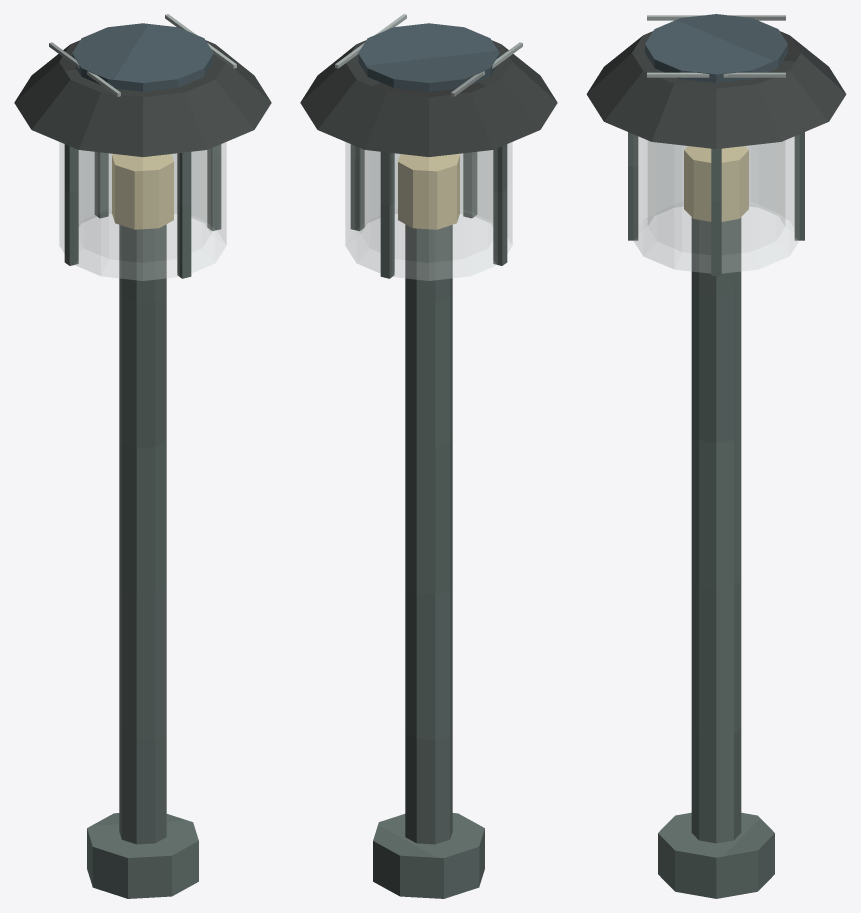
The model's file is solar-lamp.glb.
The picture shows the model from 3 angles, left to right: view 1: azimuth 30°, elevation 25°; view 2: azimuth 150°, elevation 25°; view 3: azimuth 270°, elevation 25°; orthographic projection.
Visible parts, largest first — view 1: solar-lamp/stake, solar-lamp/lamp-glass, solar-lamp/hat, solar-lamp/solar-panel, solar-lamp/foot, solar-lamp/led, solar-lamp/window-frame-3, solar-lamp/window-frame-2, solar-lamp/window-frame-0, solar-lamp/window-frame-1; view 2: solar-lamp/stake, solar-lamp/lamp-glass, solar-lamp/hat, solar-lamp/solar-panel, solar-lamp/foot, solar-lamp/led, solar-lamp/window-frame-1, solar-lamp/window-frame-2, solar-lamp/window-frame-0, solar-lamp/window-frame-3; view 3: solar-lamp/stake, solar-lamp/lamp-glass, solar-lamp/hat, solar-lamp/solar-panel, solar-lamp/foot, solar-lamp/led, solar-lamp/window-frame-0, solar-lamp/window-frame-1, solar-lamp/window-frame-3, solar-lamp/detail-panel-rail-1.
Part boxes in pixels (<box>): solar-lamp/stake: <box>119,224,166,844</box>; solar-lamp/lamp-glass: <box>59,142,226,280</box>; solar-lamp/hat: <box>14,40,271,156</box>; solar-lamp/solar-panel: <box>72,23,213,91</box>; solar-lamp/foot: <box>87,813,198,898</box>; solar-lamp/led: <box>112,154,173,229</box>; solar-lamp/window-frame-3: <box>177,151,191,278</box>; solar-lamp/window-frame-2: <box>64,144,78,265</box>; solar-lamp/window-frame-0: <box>207,144,221,230</box>; solar-lamp/window-frame-1: <box>94,152,108,218</box>; solar-lamp/stake: <box>405,224,452,844</box>; solar-lamp/lamp-glass: <box>345,142,512,280</box>; solar-lamp/hat: <box>300,40,557,156</box>; solar-lamp/solar-panel: <box>358,23,499,91</box>; solar-lamp/foot: <box>373,813,484,898</box>; solar-lamp/led: <box>398,154,459,229</box>; solar-lamp/window-frame-1: <box>380,151,394,278</box>; solar-lamp/window-frame-2: <box>493,144,507,265</box>; solar-lamp/window-frame-0: <box>350,144,364,230</box>; solar-lamp/window-frame-3: <box>463,152,477,218</box>; solar-lamp/stake: <box>691,217,741,843</box>; solar-lamp/lamp-glass: <box>633,135,799,273</box>; solar-lamp/hat: <box>586,31,846,149</box>; solar-lamp/solar-panel: <box>645,14,787,83</box>; solar-lamp/foot: <box>658,812,774,898</box>; solar-lamp/led: <box>684,146,748,221</box>; solar-lamp/window-frame-0: <box>711,148,721,275</box>; solar-lamp/window-frame-1: <box>794,132,804,240</box>; solar-lamp/window-frame-3: <box>628,132,638,240</box>; solar-lamp/detail-panel-rail-1: <box>647,72,785,77</box>.
Size of the model in its own units: 0.2 by 0.705 by 0.2.
Materials: 6 (5 with a texture image).
